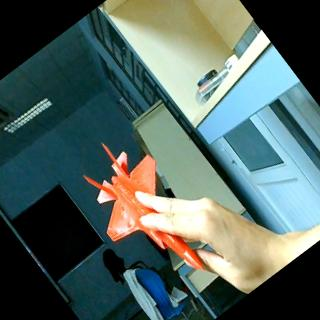Jet: (61, 122, 226, 304)
